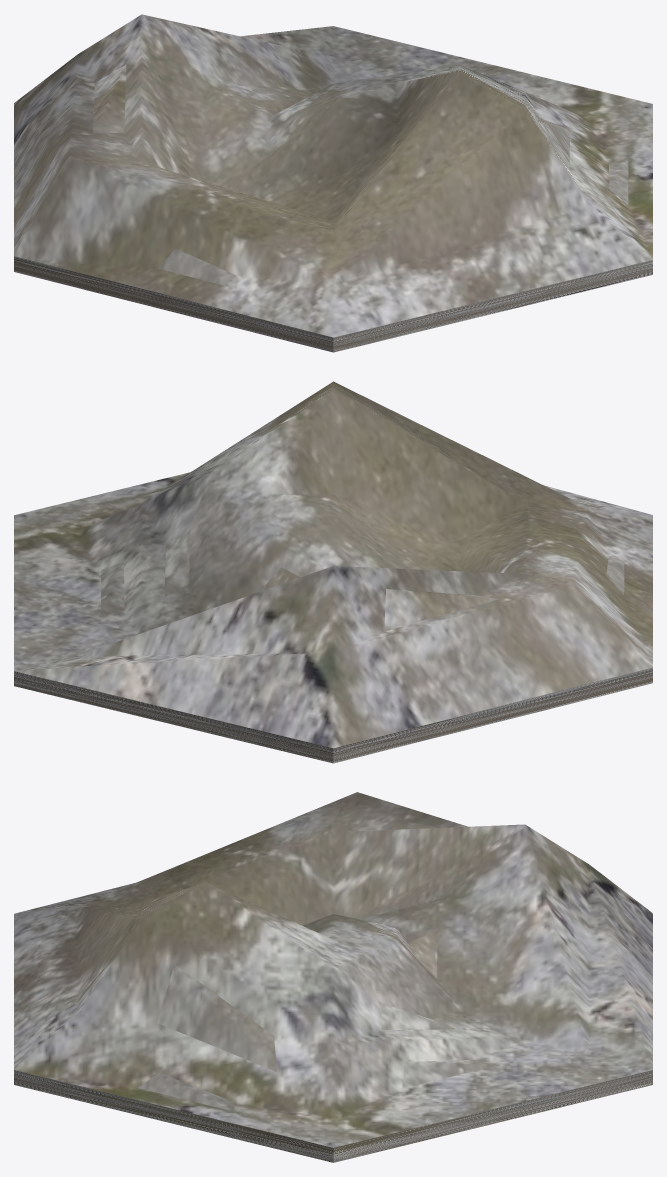
The model's file is mountain.fbx.
3 renders of one model, top to bottom at view 1: azimuth 30°, elevation 25°; view 2: azimuth 150°, elevation 25°; view 3: azimuth 270°, elevation 25°, orthographic.
Parts seen in each view (by area): view 1: pPrism1; view 2: pPrism1; view 3: pPrism1.
Part boxes in pixels (x1,y1,x2,y2): pPrism1: (14,14,652,352); pPrism1: (14,381,652,763); pPrism1: (14,792,652,1162).
Size of the model in its own units: 19.19 by 4.47 by 16.62.
